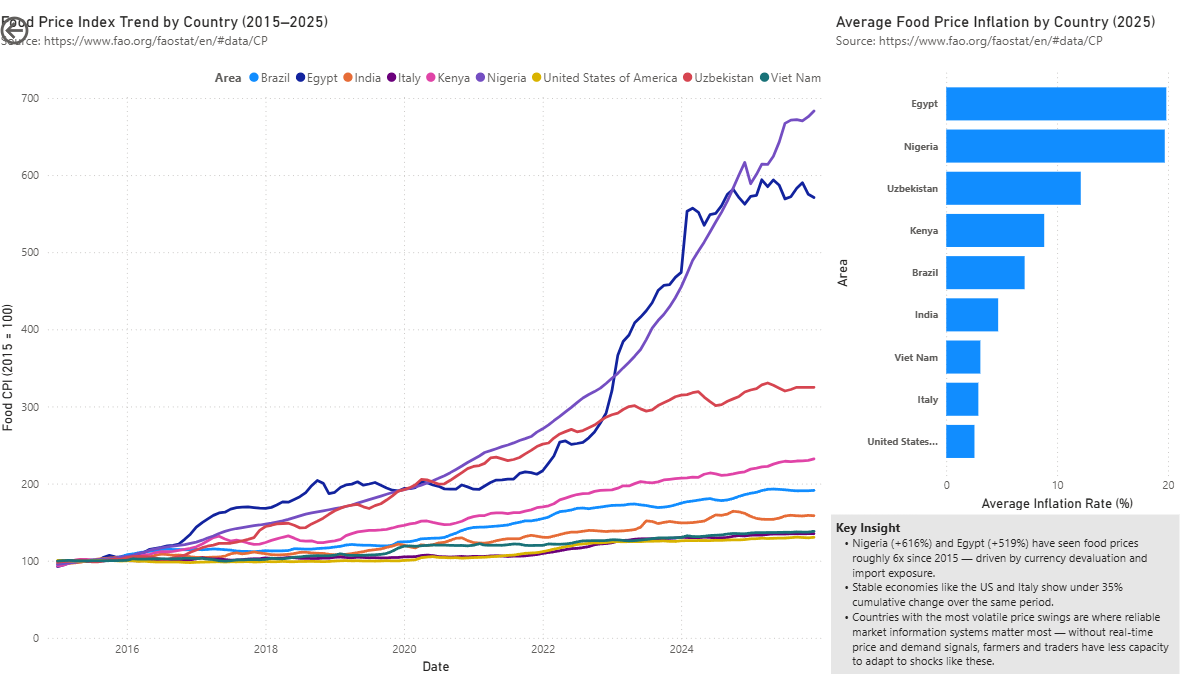

Layout of this report page (visuals, bound fields, positions):
{"tool":"powerbi","page":{"name":"Food Price Trends & Inflation","canvas":[1280,720],"ordinal":0},"visuals":[{"type":"lineChart","title":"Food Price Index Trend by Country (2015–2025)","fields":{"Category":["FAO Food Market Insights.Date.Variation.Date Hierarchy.Year","FAO Food Market Insights.Date.Variation.Date Hierarchy.Month"],"Series":["FAO Food Market Insights.Area"],"Y":["Sum(FAO Food Market Insights.Value)"]},"box":[0,0,902.5,720.5],"z":0},{"type":"clusteredBarChart","title":"Average Food Price Inflation by Country (2025)","fields":{"Category":["FAO Food Market Insights.Area"],"Y":["Avg(FAO Food Market Insights.Value)"]},"box":[902.5,0,376.6,543.5],"z":1000},{"type":"actionButton","box":[0,0,100,40],"z":2000},{"type":"textbox","box":[902.5,543.5,376.6,177],"z":3000}]}

Visuals, with their boxes in screenshot pixels (x1, y1, x2, y2), scaled from the page's 1280x720 canvas onto the 1181x674 screenshot:
"Food Price Index Trend by Country (2015–2025)" lineChart: [0, 0, 833, 673]
"Average Food Price Inflation by Country (2025)" clusteredBarChart: [833, 0, 1180, 509]
actionButton: [0, 0, 92, 37]
textbox: [833, 509, 1180, 673]
